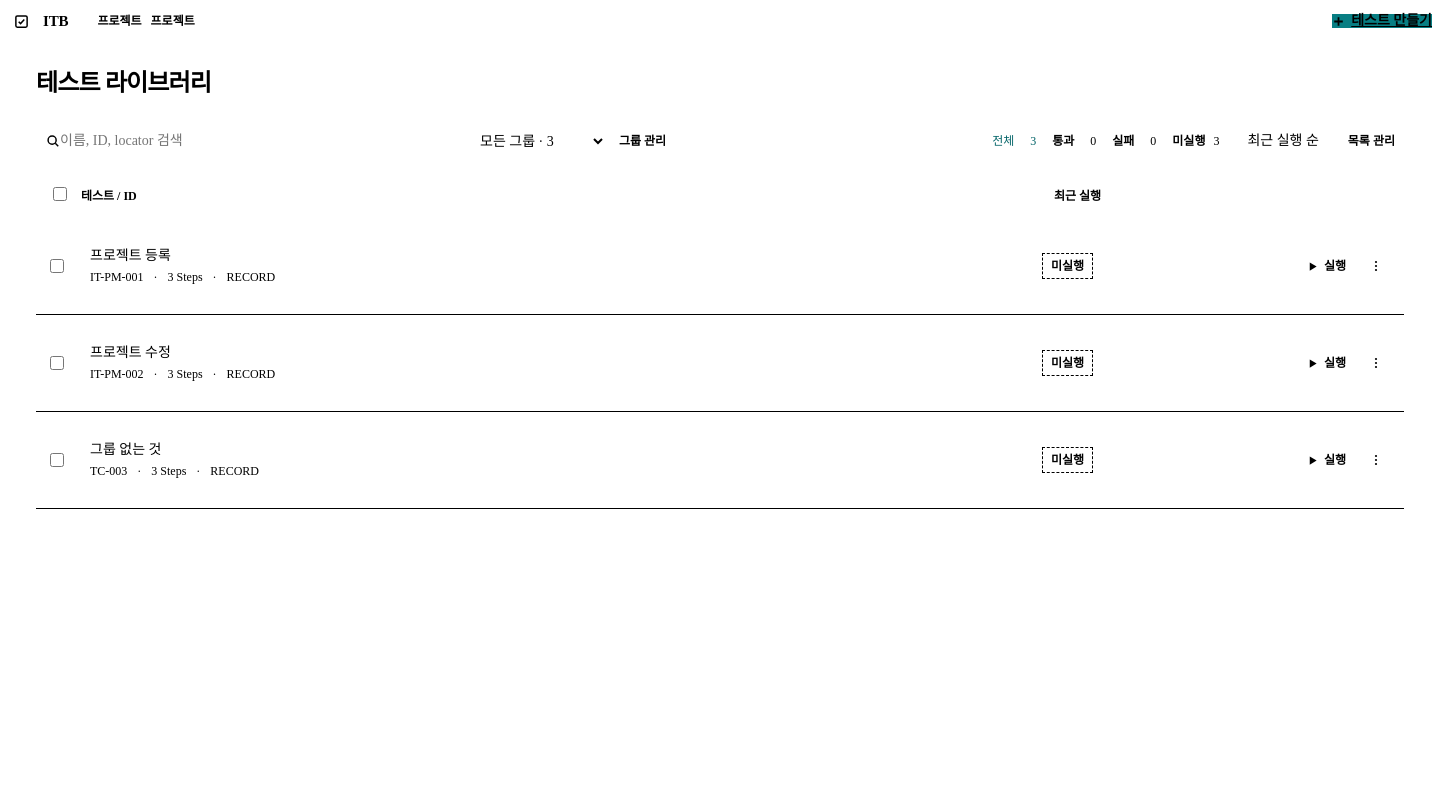
Test case: 선택칸 경로 (FR-027 · SC-006) › 새 그룹 만들어 옮기기도 선택칸으로 된다 (FR-027)
This screenshot has width=1440, height=810.
Check: the text "프로젝트 등록" is shown, box 90,248 -> 171,263
Click the checkbox named "프로젝트 등록 선택" at (57, 266), box 50,259 -> 64,273
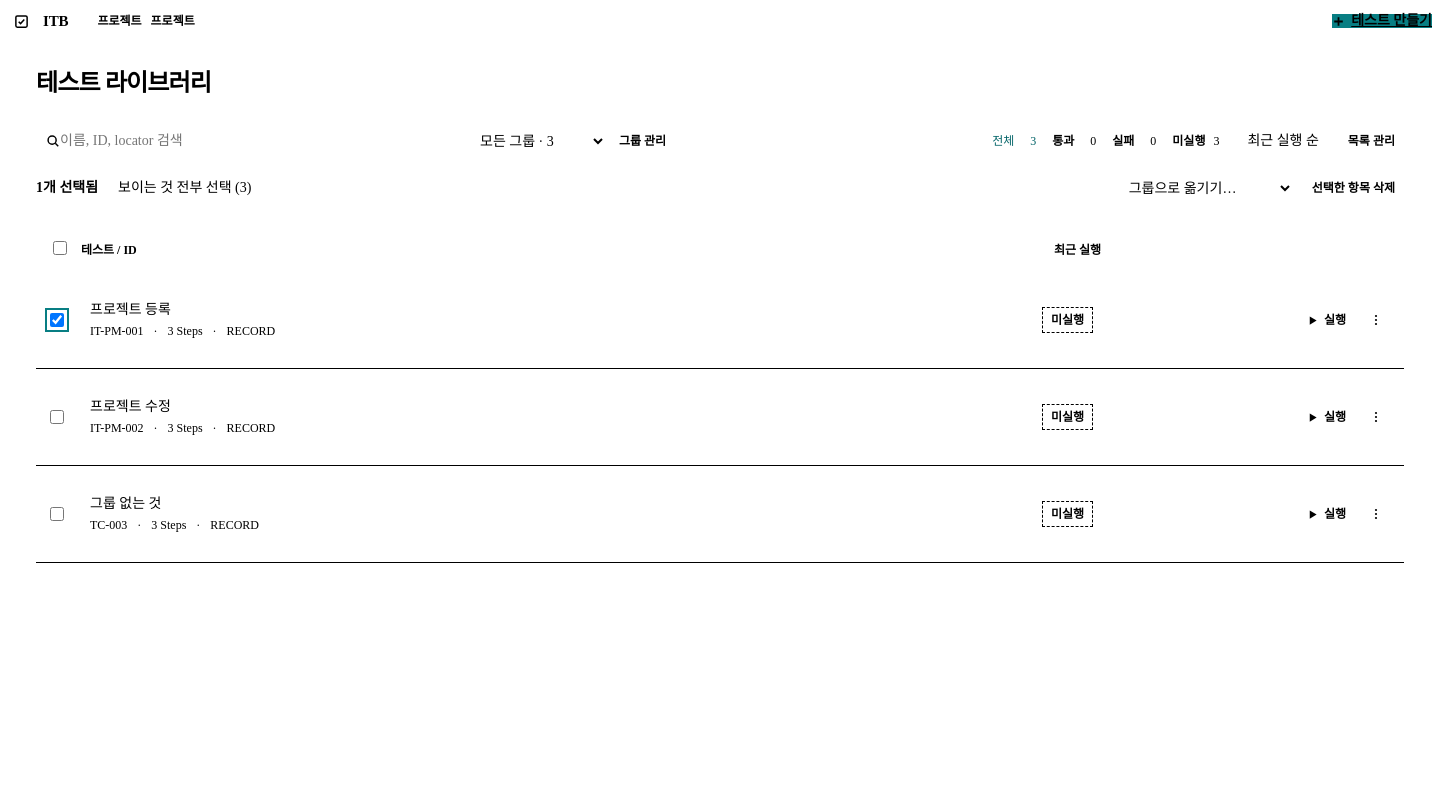
Select "+ 새 그룹 만들어 옮기기" in the dropdown named "그룹으로 옮기기" at (1204, 188), box 1115,180 -> 1293,196
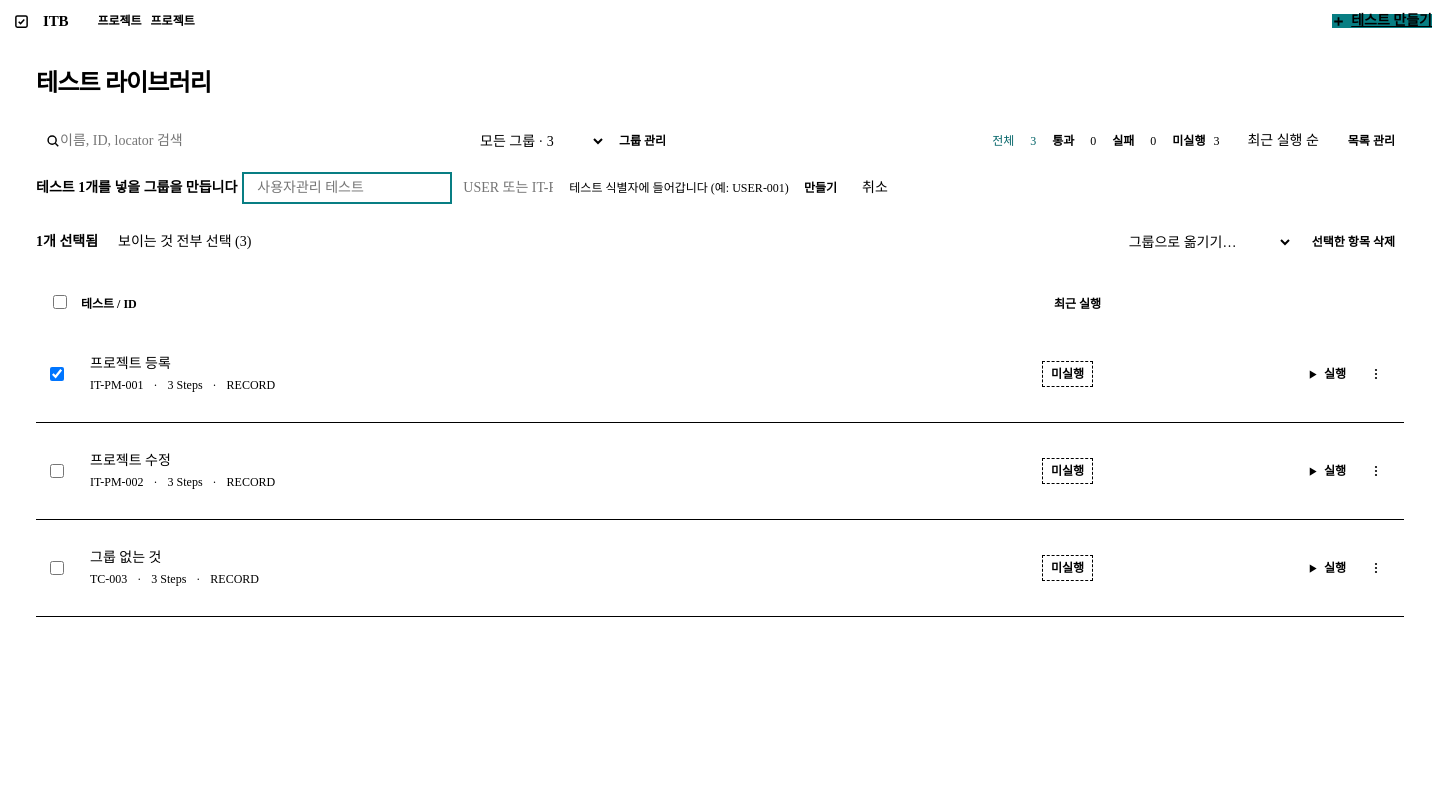
Check: the field named "그룹 접두어" is shown, box 453,177 -> 563,199
